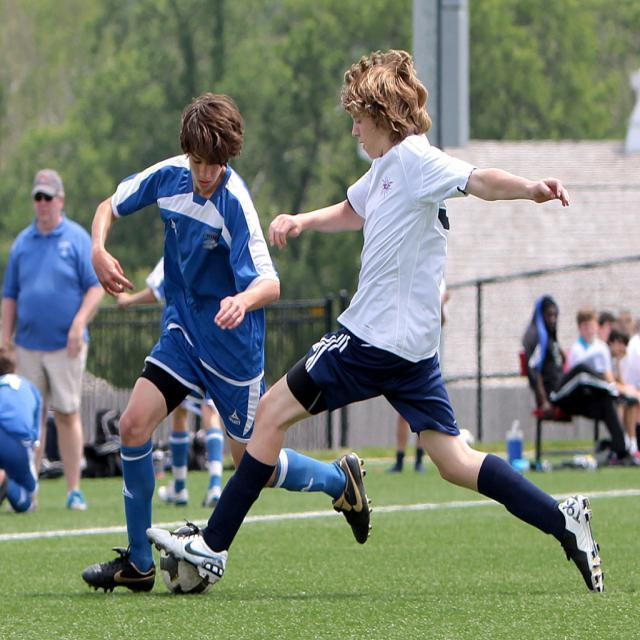football: (156, 531, 227, 602)
